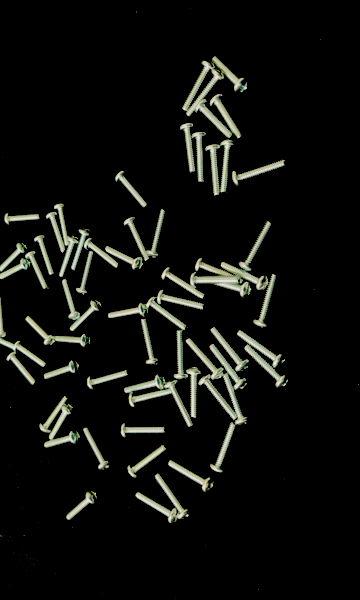longscrew: (243, 344, 292, 390), (237, 329, 287, 370), (186, 69, 227, 118), (238, 219, 275, 273), (210, 325, 251, 373), (209, 344, 250, 391), (198, 373, 238, 421), (154, 474, 193, 521), (182, 60, 216, 112), (209, 93, 246, 140), (186, 337, 225, 381), (231, 158, 287, 188), (168, 458, 215, 493), (195, 99, 235, 140), (163, 378, 195, 429), (222, 374, 252, 427), (252, 273, 280, 329), (212, 54, 250, 95), (146, 296, 189, 332), (161, 267, 206, 301), (221, 261, 270, 292), (136, 492, 180, 525), (128, 443, 168, 479), (210, 422, 237, 475), (194, 257, 244, 285), (115, 170, 150, 210), (83, 428, 113, 471), (83, 237, 121, 270), (39, 395, 70, 435), (123, 217, 151, 261), (6, 351, 39, 387), (69, 299, 103, 332), (105, 245, 145, 273), (146, 209, 168, 259), (157, 289, 206, 311), (66, 490, 99, 522), (140, 318, 162, 366), (25, 250, 50, 292), (13, 340, 49, 369), (128, 387, 175, 409), (45, 211, 69, 254), (220, 139, 238, 195), (48, 404, 74, 442), (87, 368, 129, 391), (25, 316, 56, 347), (186, 366, 204, 419), (71, 228, 93, 271), (33, 235, 56, 276), (209, 278, 253, 299), (192, 131, 209, 185), (58, 235, 79, 278), (124, 374, 167, 395), (205, 144, 222, 197), (76, 250, 95, 296), (0, 242, 28, 273), (173, 330, 190, 381), (190, 273, 241, 290), (62, 278, 82, 321), (121, 421, 168, 439), (180, 122, 196, 174), (108, 301, 150, 320), (44, 360, 80, 381), (54, 203, 70, 247), (44, 430, 81, 449), (0, 258, 31, 280), (3, 211, 43, 226), (55, 334, 92, 349), (0, 297, 9, 338), (0, 329, 16, 352)
